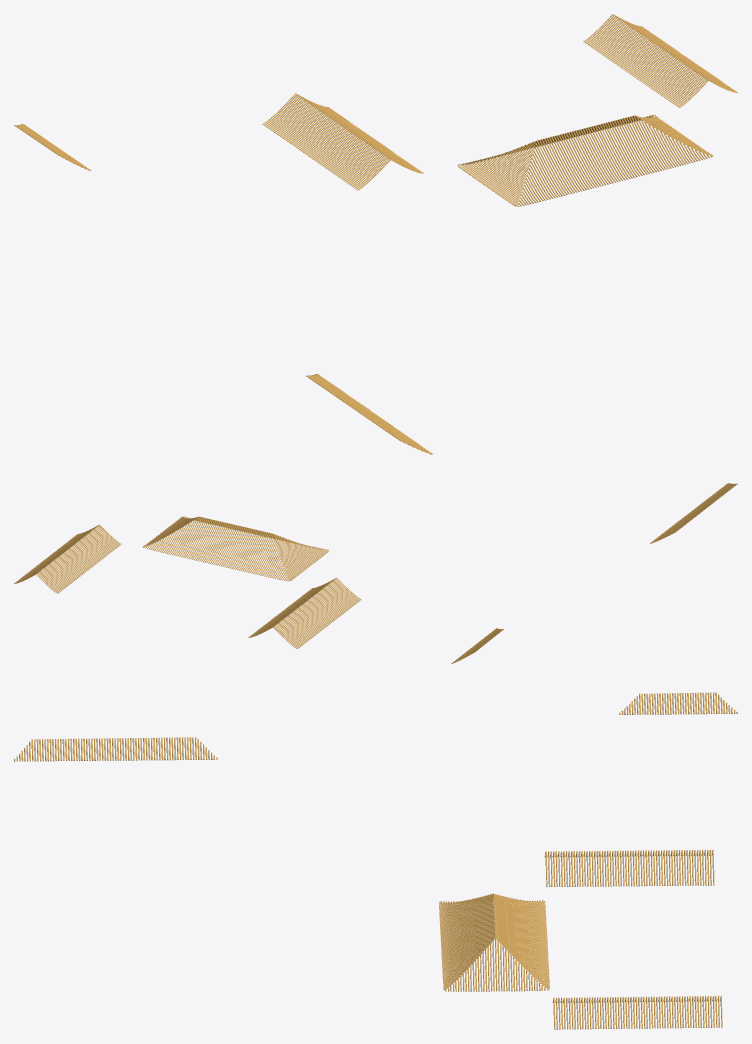
File: roof-tiles-5-2.glb
3 renders of one model, top to bottom at view 1: azimuth 30°, elevation 25°; view 2: azimuth 150°, elevation 25°; view 3: azimuth 270°, elevation 25°, orthographic. The views are drawn at different scales.
Visible parts, largest first — view 1: roof-tiles-5-2_micro_Roof_Glazed_Ochre; view 2: roof-tiles-5-2_micro_Roof_Glazed_Ochre; view 3: roof-tiles-5-2_micro_Roof_Glazed_Ochre.
Boxes of the visible parts, <box> form: roof-tiles-5-2_micro_Roof_Glazed_Ochre: <box>14,14,737,454</box>; roof-tiles-5-2_micro_Roof_Glazed_Ochre: <box>14,483,737,663</box>; roof-tiles-5-2_micro_Roof_Glazed_Ochre: <box>14,692,737,1029</box>.
Bounding box in the file's own units: 1.04 × 0.0905 × 1.12.
